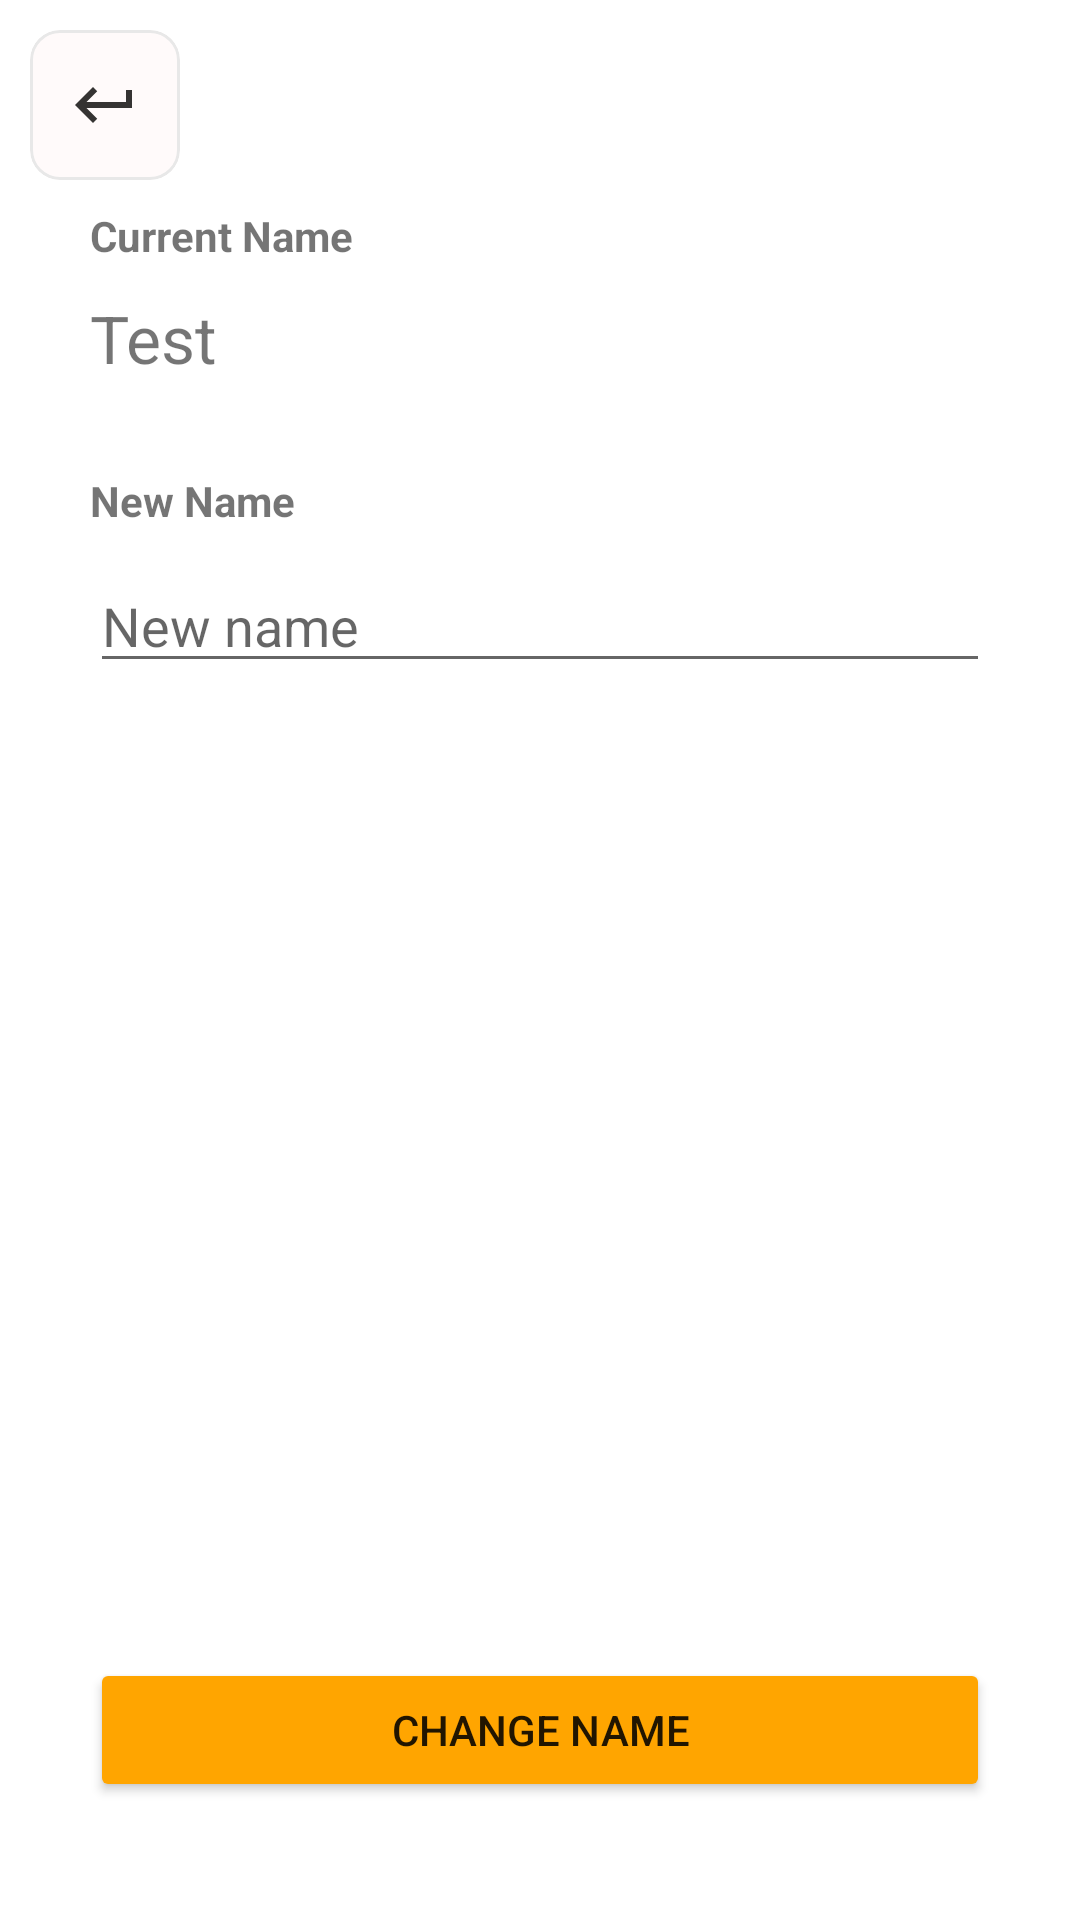

Screen size 1080 × 1920. Icon name, then its box in pixels as [x1,y1,x2,y2]:
exit: [75,87,132,123]
